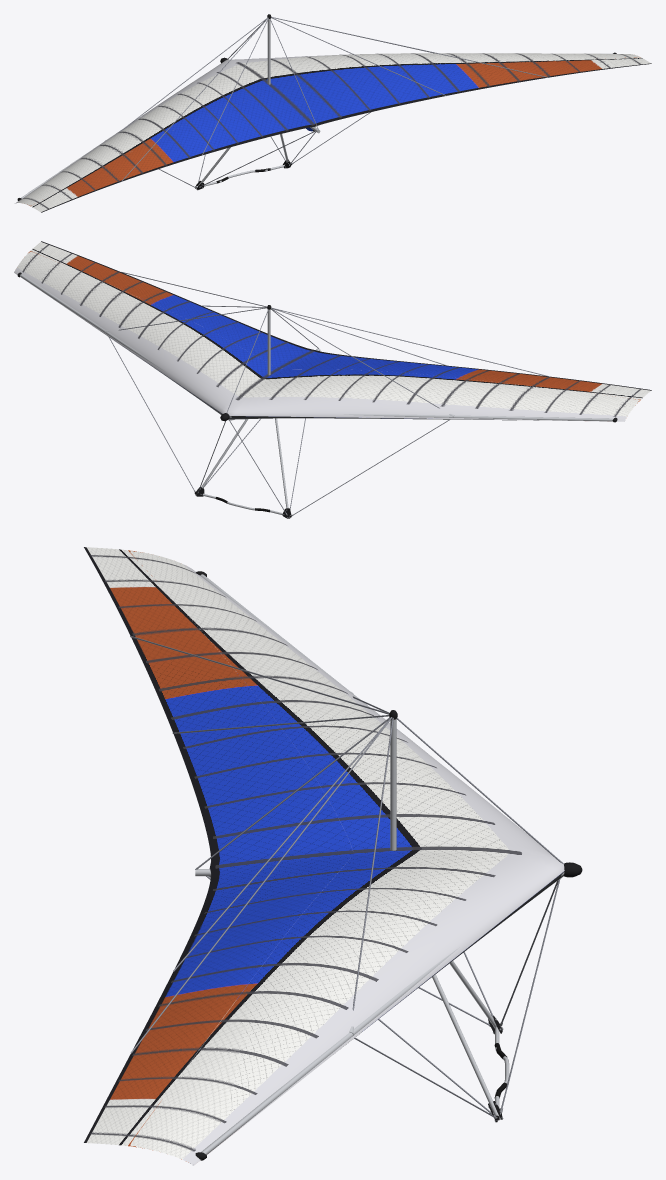
The model's file is glider_ww_eagle.glb.
3 renders of one model, top to bottom at view 1: azimuth 30°, elevation 25°; view 2: azimuth 150°, elevation 25°; view 3: azimuth 270°, elevation 25°, orthographic. The views are drawn at different scales.
Visible parts, largest first — view 1: Sail, Frame, ControlFrame; view 2: Sail, Frame, ControlFrame; view 3: Sail, Frame, ControlFrame.
Boxes of the visible parts, bbox=[...] form: Sail: bbox=[15, 53, 651, 212]; Frame: bbox=[17, 14, 616, 200]; ControlFrame: bbox=[159, 112, 371, 190]; Sail: bbox=[14, 241, 651, 421]; Frame: bbox=[17, 272, 617, 422]; ControlFrame: bbox=[108, 337, 449, 518]; Sail: bbox=[84, 547, 564, 1165]; Frame: bbox=[130, 571, 582, 1160]; ControlFrame: bbox=[206, 876, 560, 1122].
Size of the model in its own units: 9.75 by 2.81 by 3.45.
8 materials, 1 textured.
